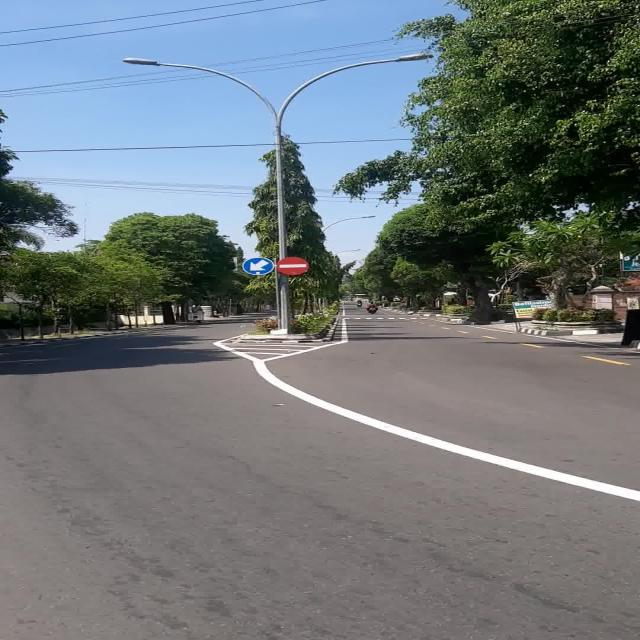Dilarang Masuk: (278, 257, 308, 275)
Lajur Kiri: (242, 257, 274, 275)
